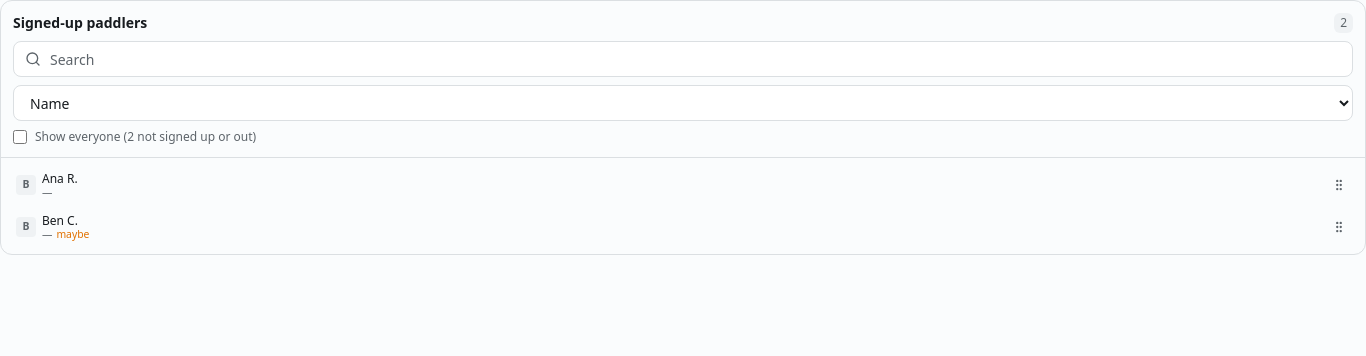
Test: RosterPanel opt-in pool › reveals the unsigned and the declined when toggled, each flagged
Step 1. Click the checkbox labelled "Show everyone (2 not signed up or out)" → (20, 137), box x1=13 y1=130 x2=27 y2=144
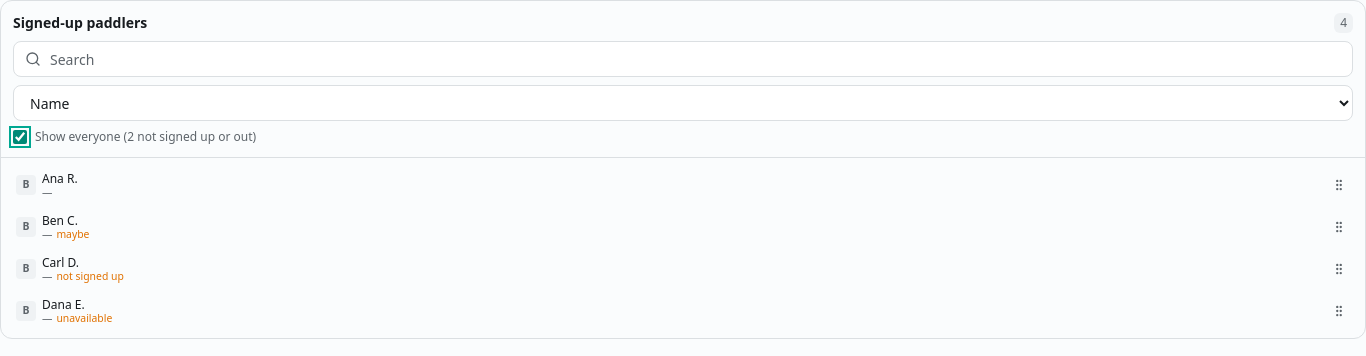
Expected: the text "not signed up" is shown, x1=56 y1=269 x2=124 y2=283
Expected: the text "unavailable" is shown, x1=56 y1=311 x2=112 y2=325
